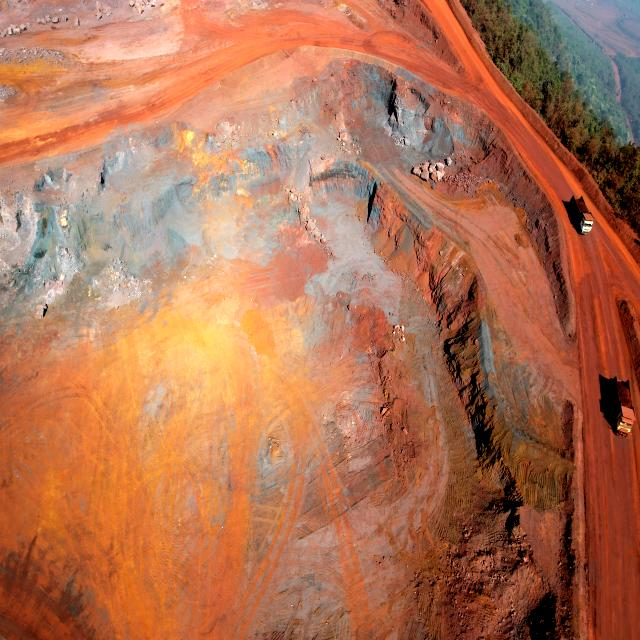Dumper truck: (613, 376, 633, 433), (569, 196, 593, 236)
